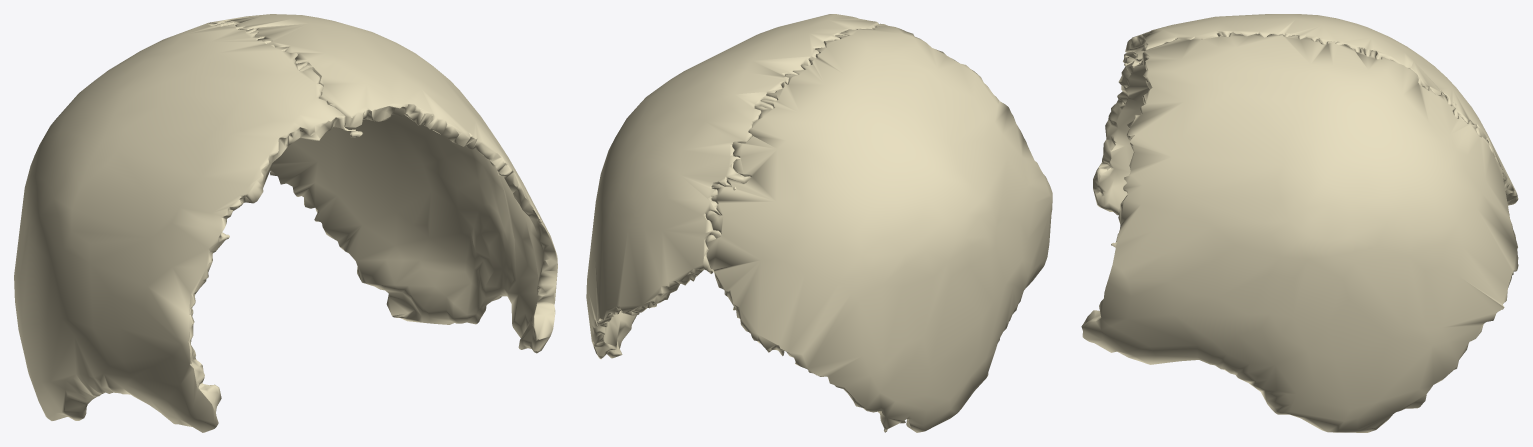
The model's file is parietal_bone.glb.
3 renders of one model, left to right at view 1: azimuth 30°, elevation 25°; view 2: azimuth 150°, elevation 25°; view 3: azimuth 270°, elevation 25°, orthographic. The views are drawn at different scales.
Visible parts, largest first — view 1: parietal bone; view 2: parietal bone; view 3: parietal bone.
Boxes of the visible parts, <box> form: parietal bone: <box>14,14,557,432</box>; parietal bone: <box>586,14,1052,432</box>; parietal bone: <box>1081,14,1518,432</box>.
Size of the model in its own units: 0.151 by 0.1184 by 0.1465.
